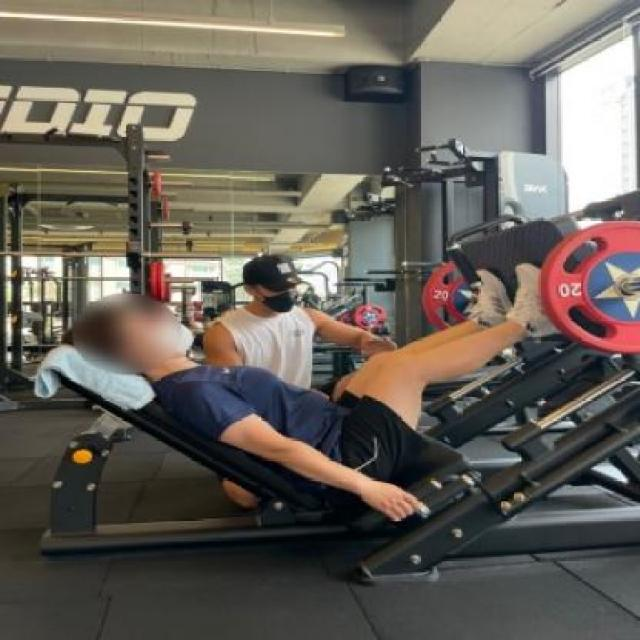leg press: (20, 142, 640, 586)
